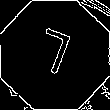L_S: (32, 26, 78, 84)
